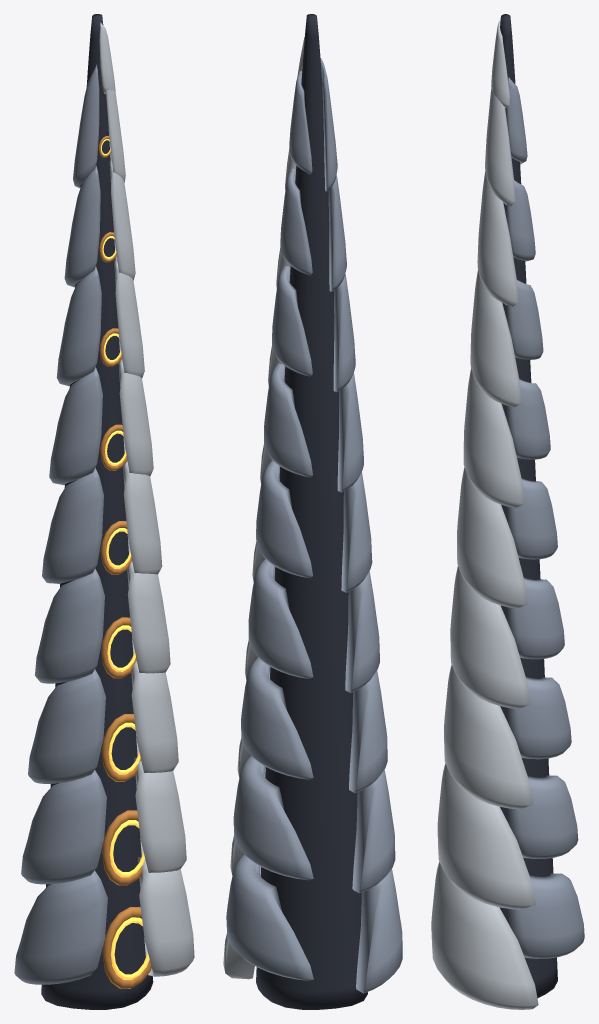
The model's file is blender-tentacle.glb.
The picture shows the model from 3 angles, left to right: view 1: azimuth 30°, elevation 25°; view 2: azimuth 150°, elevation 25°; view 3: azimuth 270°, elevation 25°; orthographic projection.
Visible parts, largest first — view 1: Overlapping shoulder scales, Swept overlapping chrome plates, Recessed mechanical spine, Machined warm sockets, Amber insets; view 2: Overlapping shoulder scales, Recessed mechanical spine, Swept overlapping chrome plates; view 3: Swept overlapping chrome plates, Overlapping shoulder scales, Recessed mechanical spine.
Part boxes in pixels (bbox=[...]): Overlapping shoulder scales: bbox=[14, 64, 107, 984]; Swept overlapping chrome plates: bbox=[99, 22, 194, 976]; Recessed mechanical spine: bbox=[41, 14, 153, 1009]; Machined warm sockets: bbox=[98, 136, 151, 988]; Amber insets: bbox=[100, 139, 149, 979]; Overlapping shoulder scales: bbox=[226, 58, 402, 993]; Recessed mechanical spine: bbox=[256, 14, 367, 1009]; Swept overlapping chrome plates: bbox=[223, 37, 304, 979]; Swept overlapping chrome plates: bbox=[431, 20, 538, 1009]; Overlapping shoulder scales: bbox=[506, 77, 584, 958]; Recessed mechanical spine: bbox=[499, 14, 557, 998].
Bounding box in the file's own units: 0.7741 × 4.35 × 0.6274.
